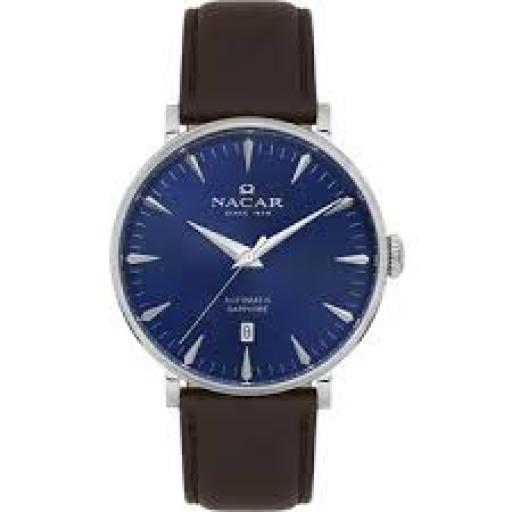KolSaati: (112, 5, 397, 499)
